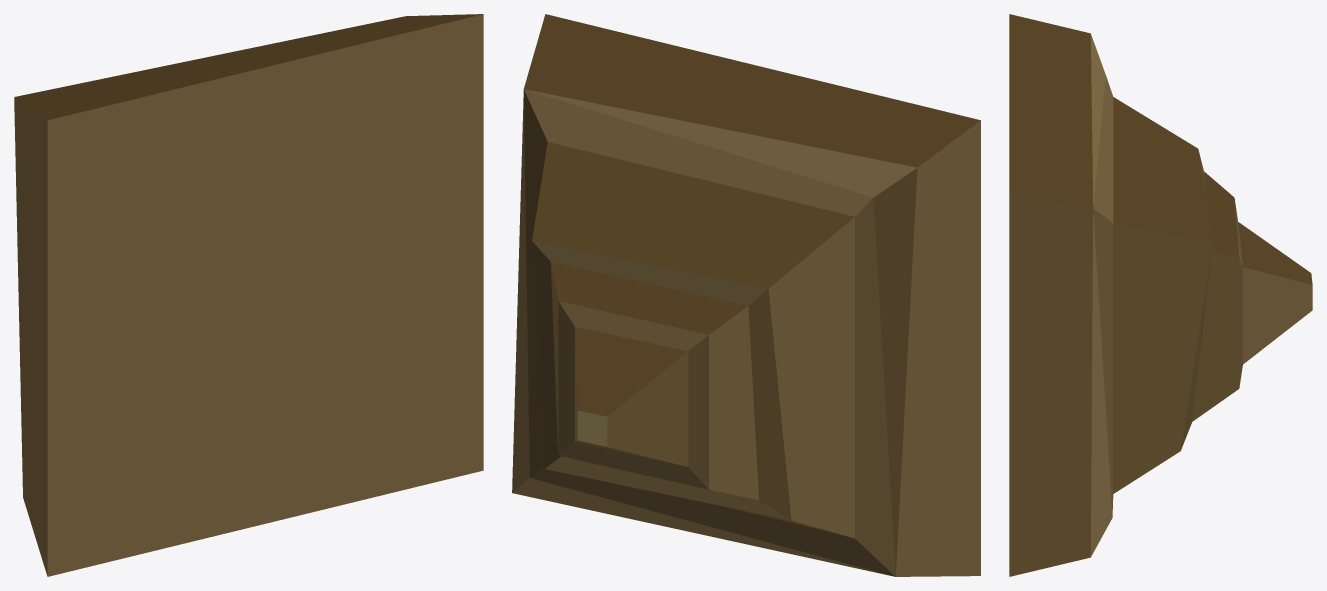
Rendered from desert_pyramid_1.fbx.
The picture shows the model from 3 angles, left to right: view 1: azimuth 30°, elevation 25°; view 2: azimuth 150°, elevation 25°; view 3: azimuth 270°, elevation 25°; orthographic projection. The views are drawn at different scales.
Visible parts, largest first — view 1: desert_pyramid_1; view 2: desert_pyramid_1; view 3: desert_pyramid_1.
Part boxes in pixels (x1,y1,x2,y2): desert_pyramid_1: (14,14,483,576); desert_pyramid_1: (512,14,980,576); desert_pyramid_1: (1009,14,1312,576).
Bounding box in the file's own units: 340 × 340 × 243.
